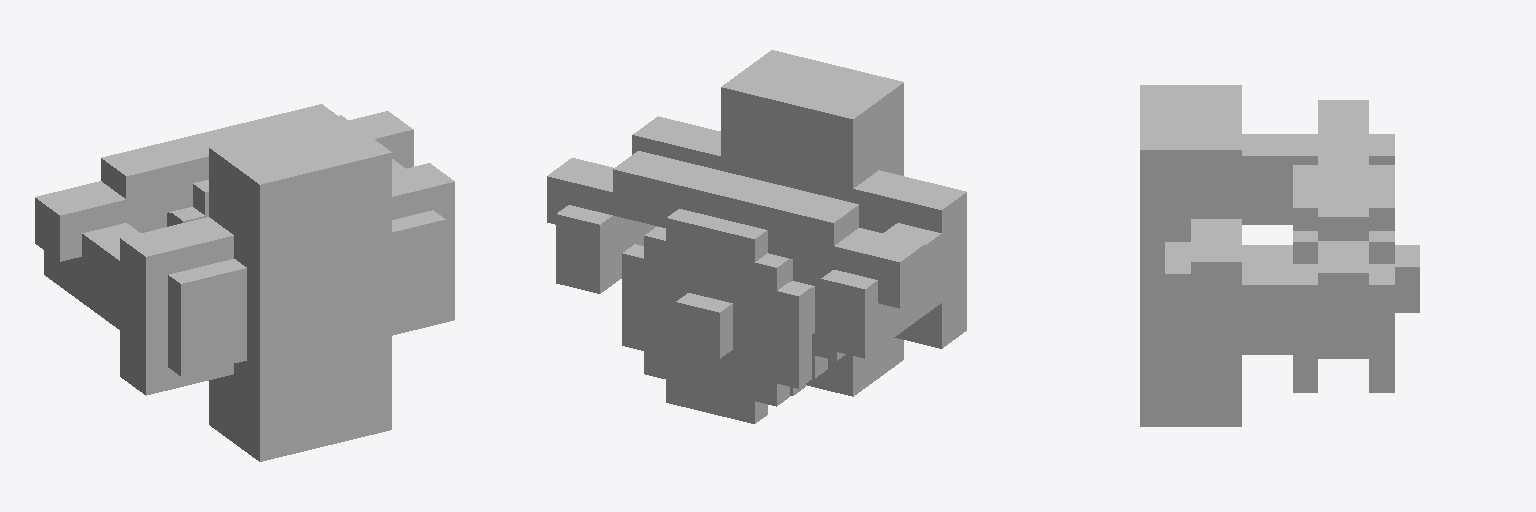
Rendered from chair_lift_wheel_powered_rope.obj.
3 renders of one model, left to right at view 1: azimuth 30°, elevation 25°; view 2: azimuth 150°, elevation 25°; view 3: azimuth 270°, elevation 25°, orthographic.
Parts seen in each view (by area): view 1: node_0_0_0.046; view 2: node_0_0_0.046; view 3: node_0_0_0.046.
Part boxes in pixels (x1,y1,x2,y2): node_0_0_0.046: (35, 104, 454, 461); node_0_0_0.046: (547, 50, 966, 423); node_0_0_0.046: (1140, 85, 1419, 426).
Bounding box in the file's own units: 1 × 0.75 × 0.6875.